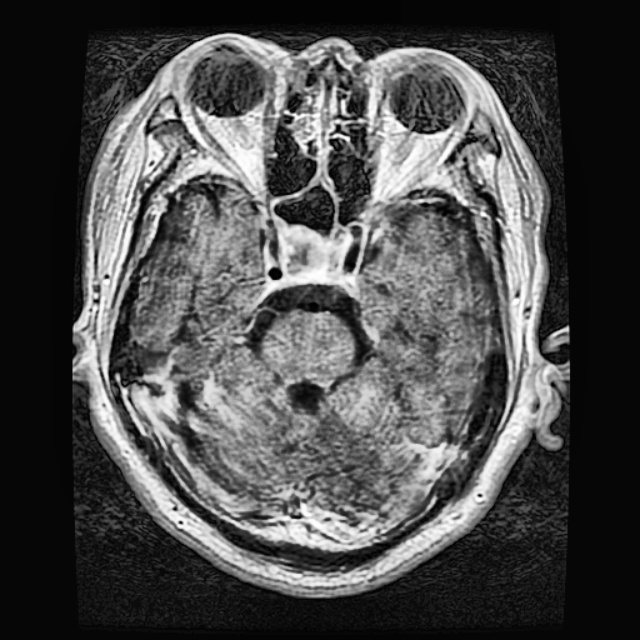Pituitary: (277, 227, 339, 279)
